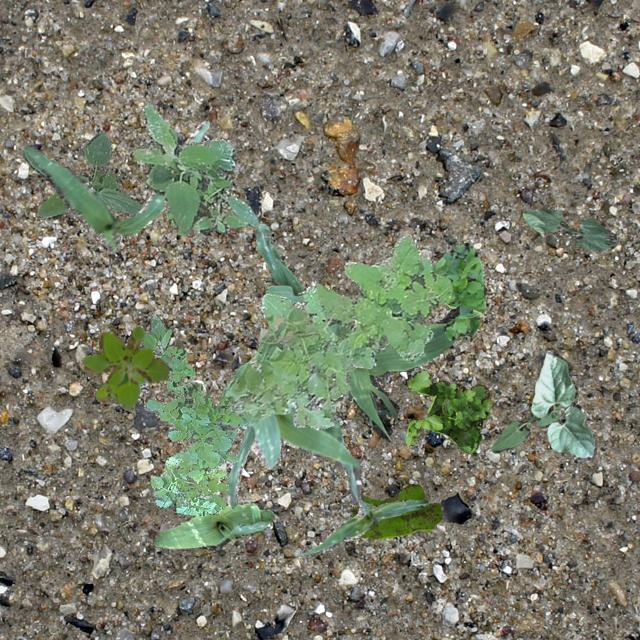crop: (252, 222, 486, 438), (23, 120, 208, 250), (224, 407, 360, 508), (298, 498, 428, 556), (530, 352, 596, 459), (150, 502, 274, 548), (522, 208, 616, 248), (488, 408, 560, 452)
weed: (216, 232, 452, 432), (142, 346, 252, 514), (132, 100, 258, 234), (20, 132, 142, 218), (404, 368, 490, 454), (80, 326, 168, 410), (430, 242, 484, 341), (352, 482, 439, 538), (136, 310, 170, 386)
